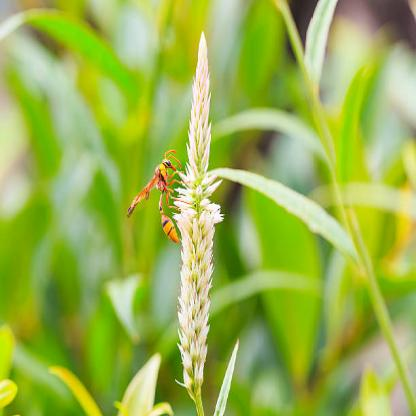sawfly: (127, 147, 187, 244)
